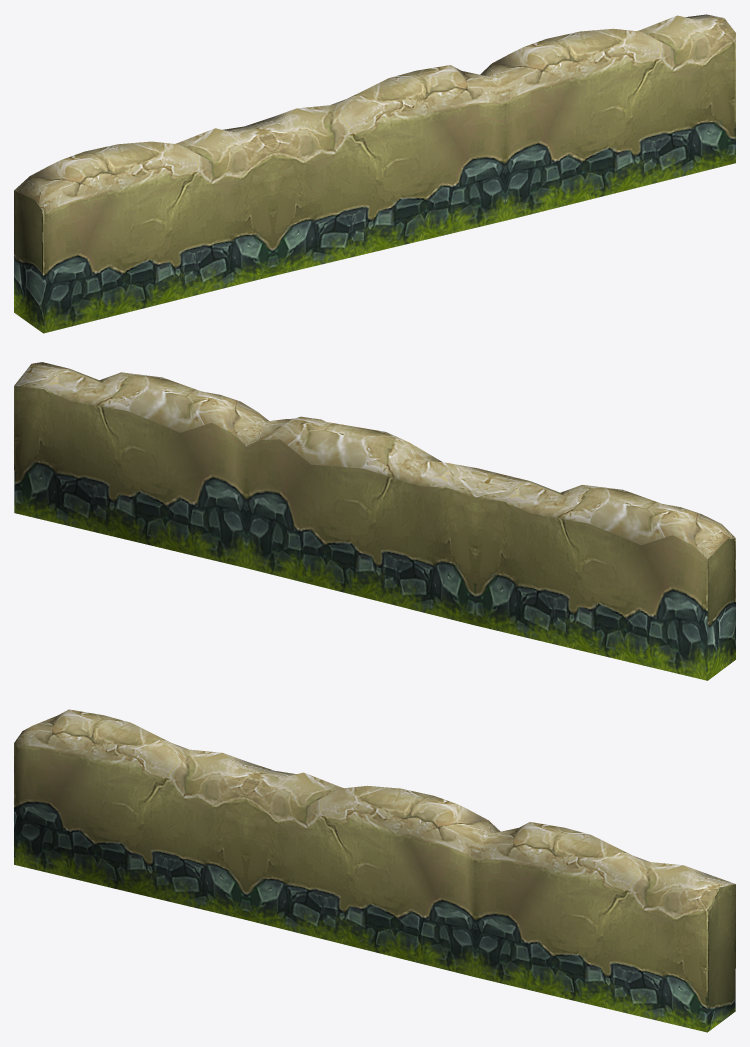
The model's file is qiang02.FBX.
The picture shows the model from 3 angles, top to bottom: view 1: azimuth 30°, elevation 25°; view 2: azimuth 150°, elevation 25°; view 3: azimuth 330°, elevation 25°; orthographic projection.
Visible parts, largest first — view 1: qiang02; view 2: qiang02; view 3: qiang02.
Part boxes in pixels (x1,y1,x2,y2): qiang02: (14,14,735,333); qiang02: (14,362,735,680); qiang02: (14,709,735,1032).
Size of the model in its own units: 358 by 74.35 by 27.13.
